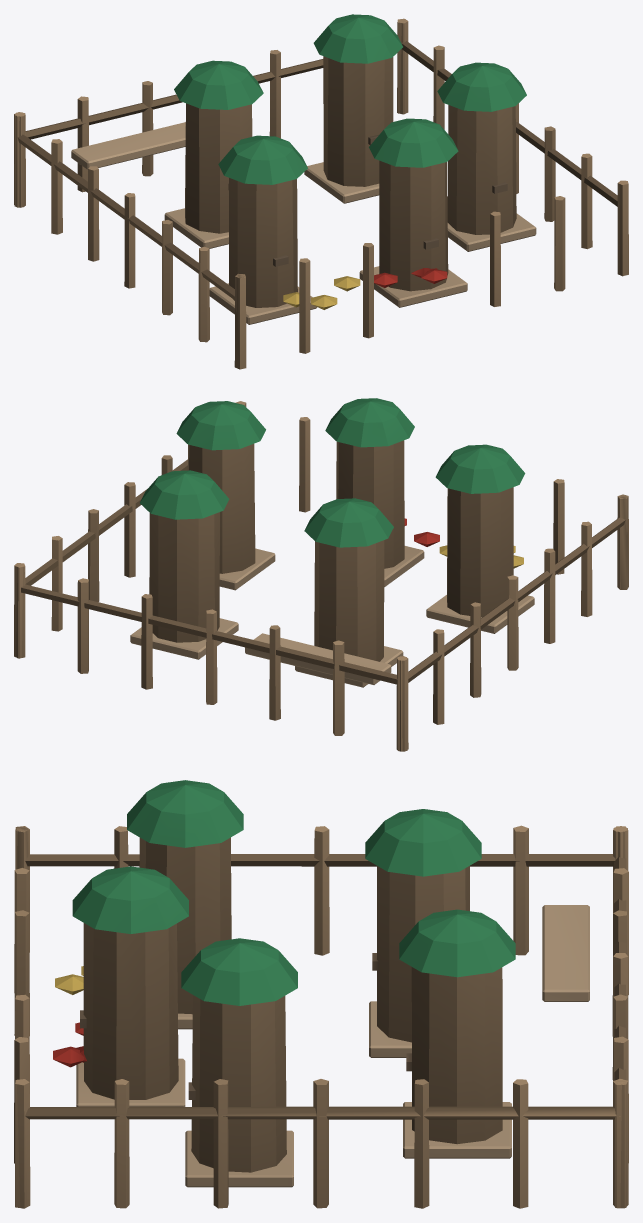
Rendered from bld_paseka_e2.glb.
3 views of the same model, one above another, from view 1: azimuth 30°, elevation 25°; view 2: azimuth 150°, elevation 25°; view 3: azimuth 270°, elevation 25° (orthographic). The views are drawn at different scales.
Visible parts, largest first — view 1: paseka; view 2: paseka; view 3: paseka.
Boxes of the visible parts, x1,y1,x2,y2 form: paseka: (14, 14, 628, 369); paseka: (14, 398, 628, 751); paseka: (14, 780, 628, 1208).
Bounding box in the file's own units: 0.9042 × 0.36 × 0.904.
